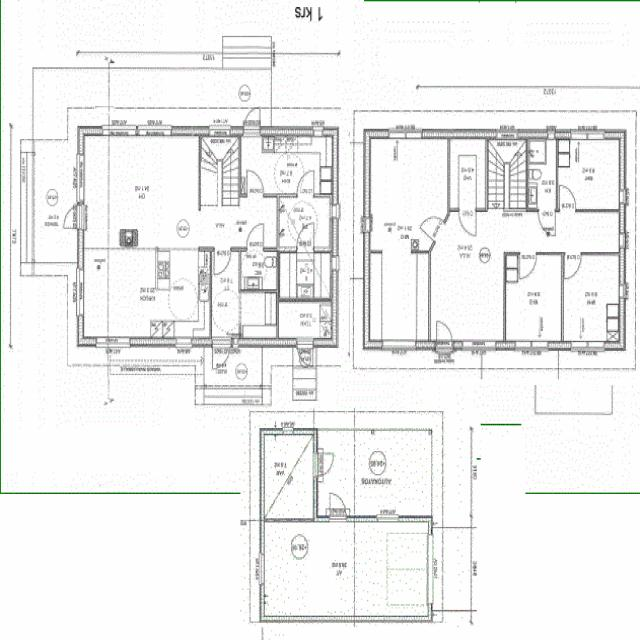door: (212, 338, 230, 373), (60, 205, 84, 229), (436, 317, 453, 350), (243, 103, 260, 135), (297, 338, 313, 371), (296, 223, 314, 252), (329, 492, 346, 522), (459, 208, 476, 236), (313, 454, 334, 476), (297, 171, 314, 197), (247, 225, 263, 252), (539, 208, 555, 235), (412, 216, 431, 238), (247, 171, 263, 197)
